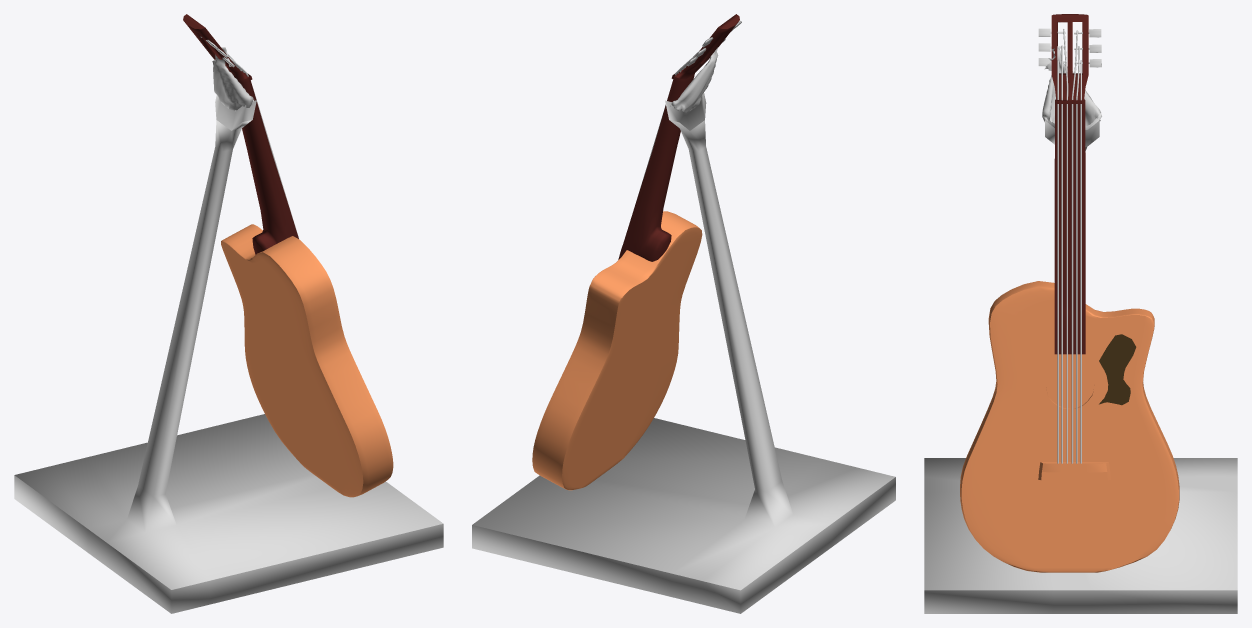
Rendered from gitar_blend_2.glb.
3 views of the same model, side by side, from view 1: azimuth 30°, elevation 25°; view 2: azimuth 150°, elevation 25°; view 3: azimuth 270°, elevation 25° (orthographic).
Visible parts, largest first — view 1: Plane_16, Cube_0, Cube.001_3, Plane.001_17; view 2: Plane_16, Cube_0, Cube.001_3, Plane.001_17; view 3: Cube_0, Plane_16, Cube.001_3, NurbsPath.010_22, Plane.001_17, NurbsPath.011_23, NurbsPath.008_20, NurbsPath.009_21, NurbsPath.006_18, NurbsPath.007_19.
Part boxes in pixels (x1,y1,x2,y2): Plane_16: (14, 95, 443, 613); Cube_0: (221, 224, 393, 497); Cube.001_3: (183, 14, 298, 254); Plane.001_17: (212, 47, 253, 110); Plane_16: (472, 93, 895, 613); Cube_0: (532, 211, 702, 490); Cube.001_3: (618, 14, 739, 261); Plane.001_17: (670, 47, 718, 112); Cube_0: (960, 281, 1179, 572); Plane_16: (924, 117, 1237, 613); Cube.001_3: (1051, 14, 1088, 354); NurbsPath.010_22: (1071, 30, 1078, 463); Plane.001_17: (1042, 47, 1101, 146); NurbsPath.011_23: (1063, 29, 1068, 463); NurbsPath.008_20: (1076, 46, 1079, 463); NurbsPath.009_21: (1061, 45, 1062, 463); NurbsPath.006_18: (1080, 60, 1081, 463); NurbsPath.007_19: (1057, 60, 1058, 463).
Bounding box in the file's own units: 4.02 × 7.29 × 4.02.
